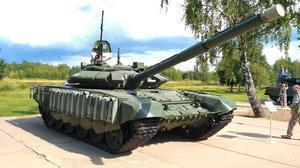t72: (37, 5, 287, 143)
